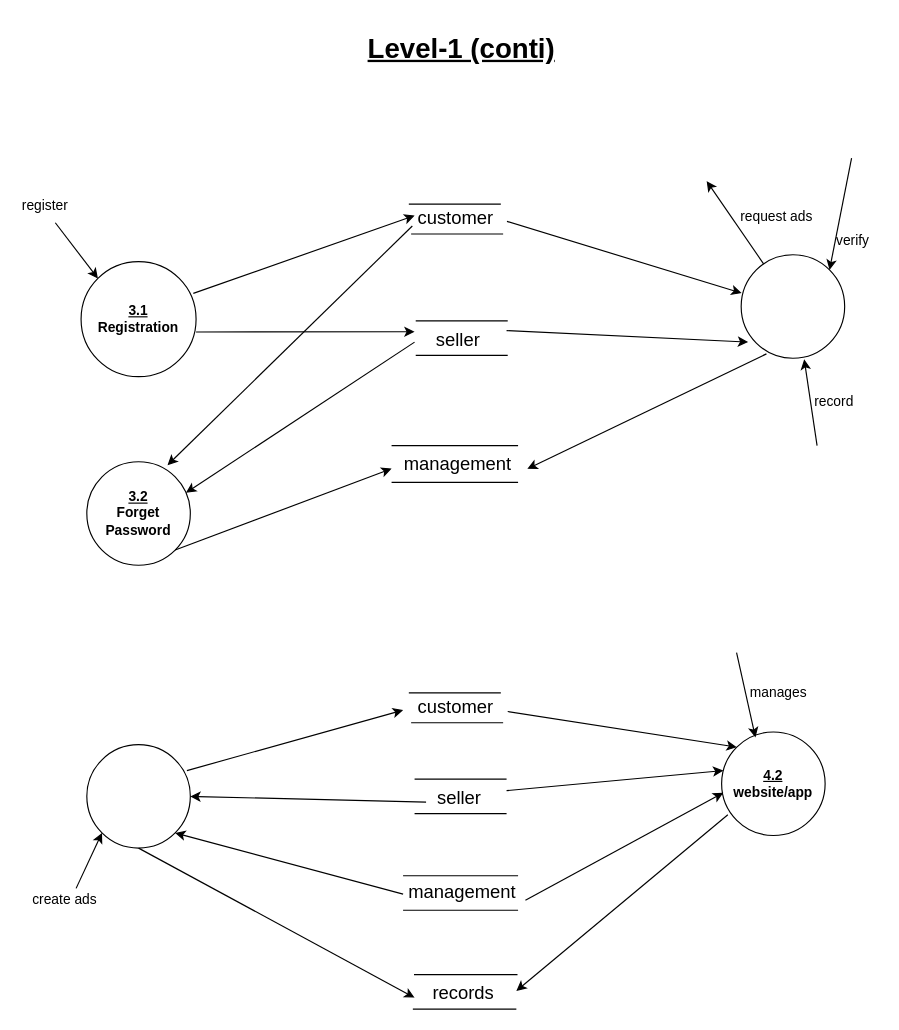
The diagram is 899 pixels wide and 1030 high, and some of its shapes have lost their labels. Each missing label, with the centre of its shape:
"3.2 Login" goes at point (792, 306).
"4.1 Create ads" goes at point (138, 795).
